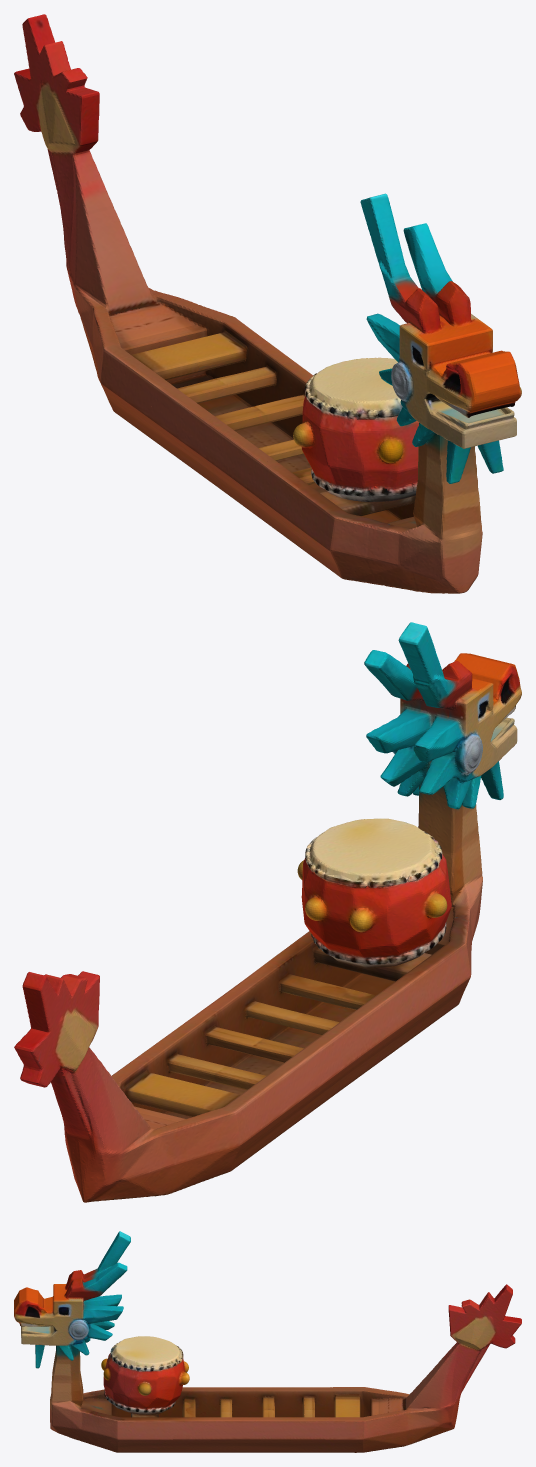
Rendered from dragon+boat+3d+model.glb.
3 renders of one model, top to bottom at view 1: azimuth 30°, elevation 25°; view 2: azimuth 150°, elevation 25°; view 3: azimuth 270°, elevation 25°, orthographic. The views are drawn at different scales.
Parts seen in each view (by area): view 1: tripo_node_e0572810-76fc-471a-b0ad-3f729c3b88a5; view 2: tripo_node_e0572810-76fc-471a-b0ad-3f729c3b88a5; view 3: tripo_node_e0572810-76fc-471a-b0ad-3f729c3b88a5.
Part boxes in pixels (<box>): tripo_node_e0572810-76fc-471a-b0ad-3f729c3b88a5: <box>14,14,521,593</box>; tripo_node_e0572810-76fc-471a-b0ad-3f729c3b88a5: <box>14,622,521,1202</box>; tripo_node_e0572810-76fc-471a-b0ad-3f729c3b88a5: <box>14,1231,521,1452</box>.
Size of the model in its own units: 0.1836 by 0.4336 by 1.
Materials: 1 (1 with a texture image).
